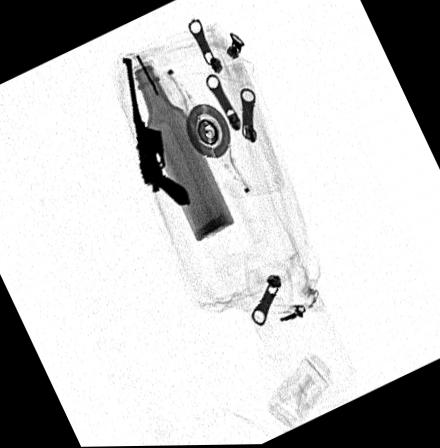Gun: (120, 57, 188, 206)
